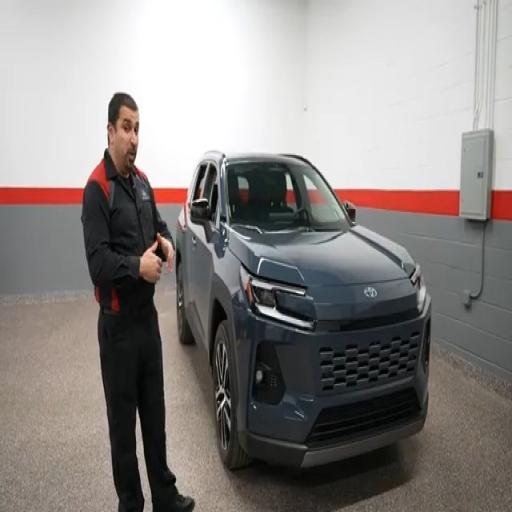bumper: (236, 296, 431, 466), (240, 399, 427, 467)
door: (183, 163, 207, 337), (192, 225, 214, 341)
emblem: (364, 288, 377, 298)
fog_light: (256, 369, 263, 385)
grille: (307, 389, 420, 447), (320, 332, 420, 391)
headlight: (240, 266, 315, 329), (411, 265, 426, 312)
hood: (229, 225, 414, 285)
side_mirror: (190, 198, 212, 241), (344, 201, 355, 221)
tire: (212, 320, 251, 470)
wheel: (176, 264, 194, 344)
window: (192, 163, 218, 223)
windshield: (227, 161, 349, 231)
